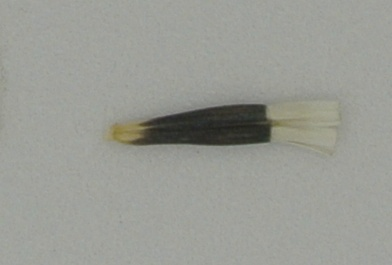เมล็ดดีติดกัน: (100, 103, 339, 152)
